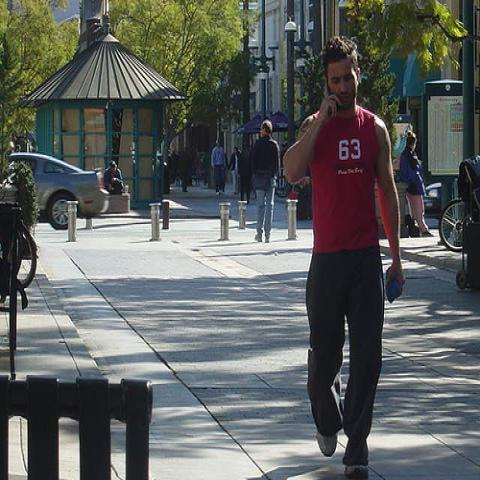car: (12, 152, 110, 231)
